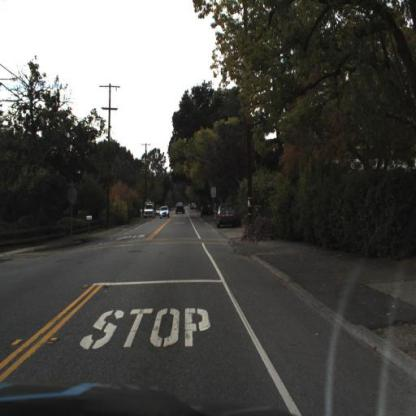car: (217, 204, 236, 230), (142, 201, 157, 222), (142, 202, 157, 218), (160, 204, 171, 220), (176, 200, 186, 217)
